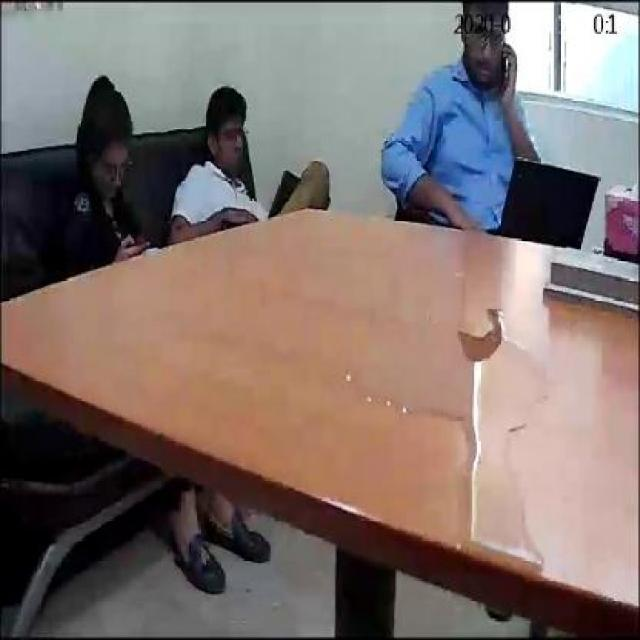spill: (354, 308, 554, 557)
